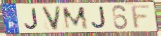6: (111, 4, 129, 31)
F: (130, 4, 153, 31)
J: (90, 5, 107, 30), (23, 7, 39, 31)
M: (61, 6, 90, 31)
V: (40, 6, 63, 32)
